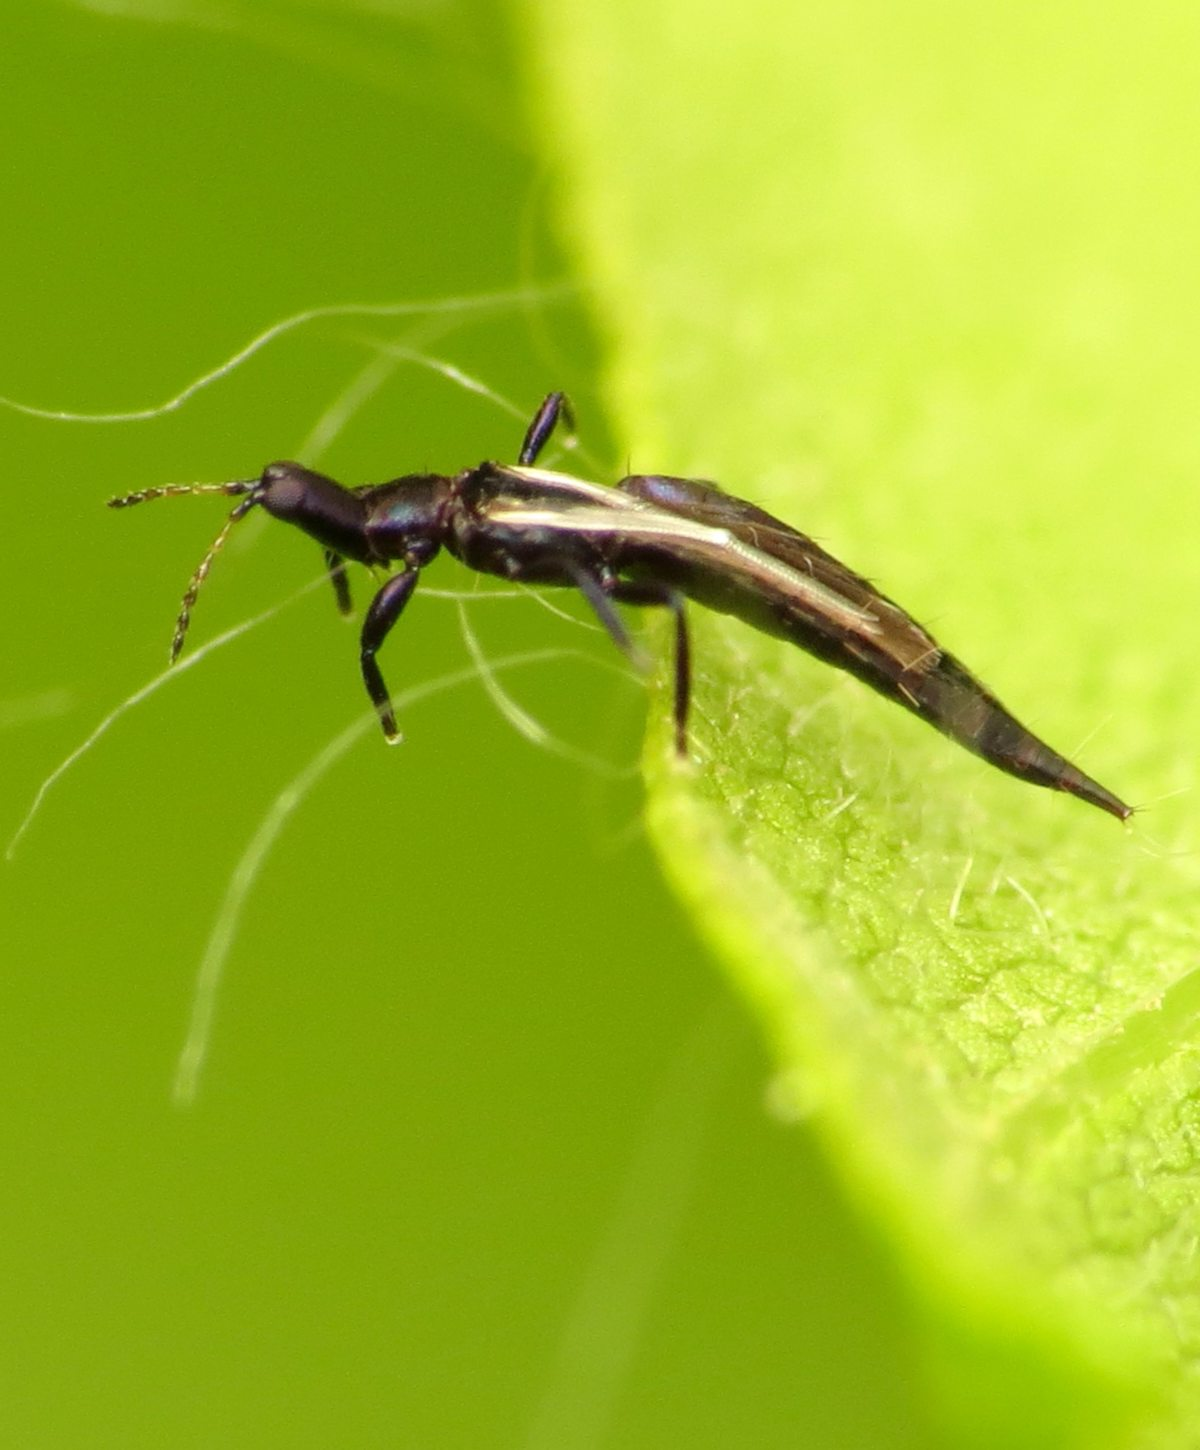Thrips: (99, 380, 1175, 898)
